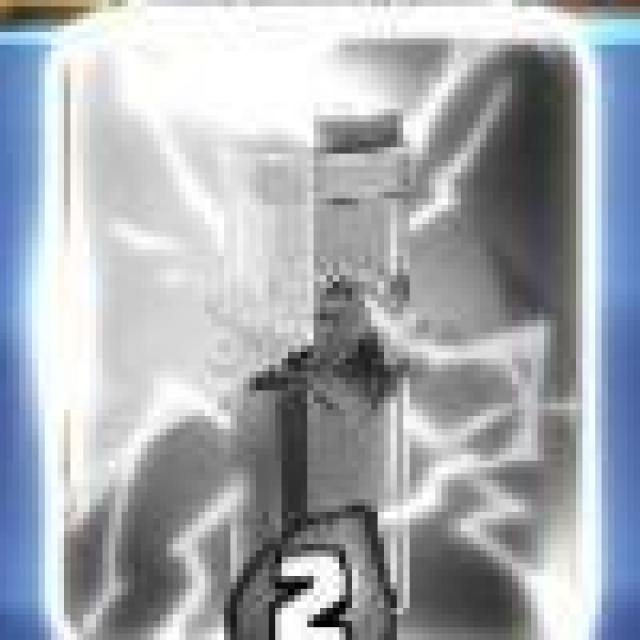Evolved_Zap: (56, 10, 590, 640)
